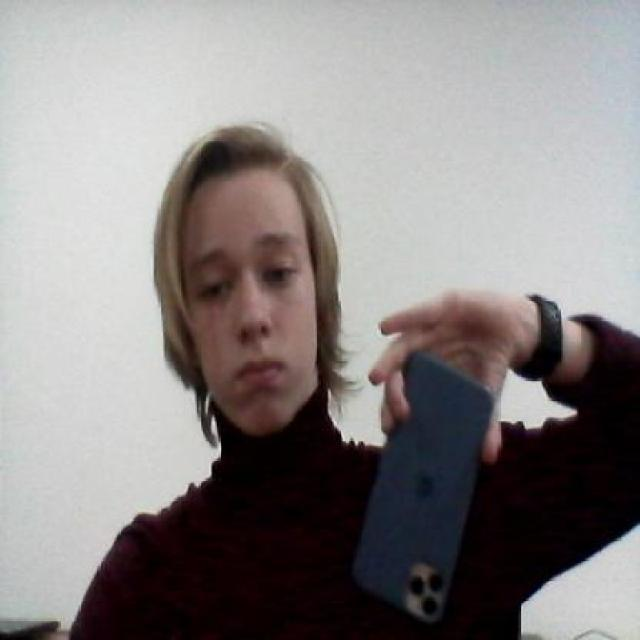lens: (398, 559, 447, 619)
phone: (334, 353, 517, 632)
